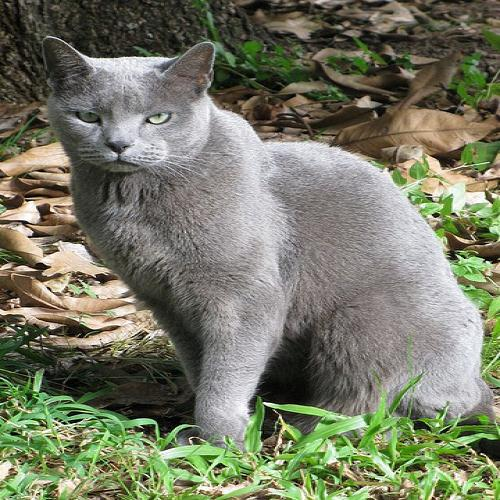rblue: (36, 30, 227, 189)
